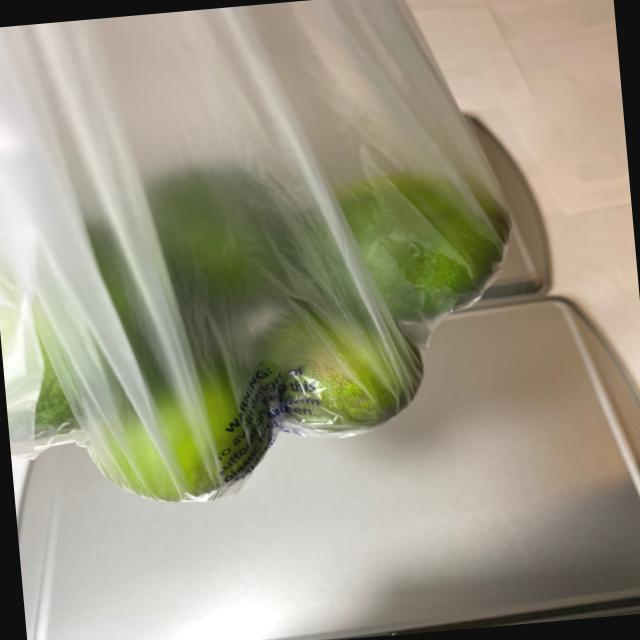lemon: (0, 149, 533, 510)
